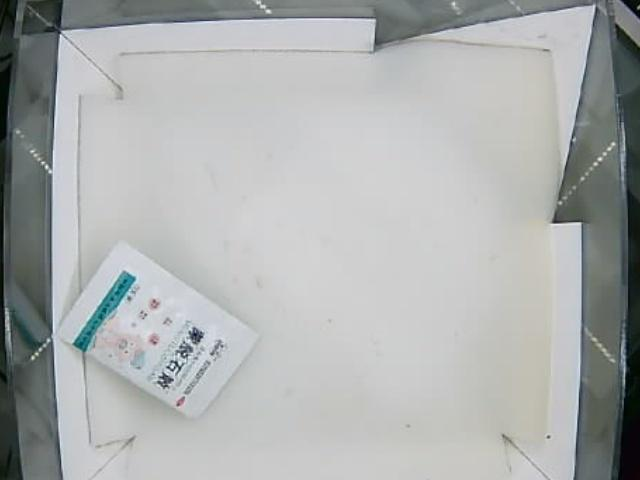Medicine: (60, 242, 259, 420)
